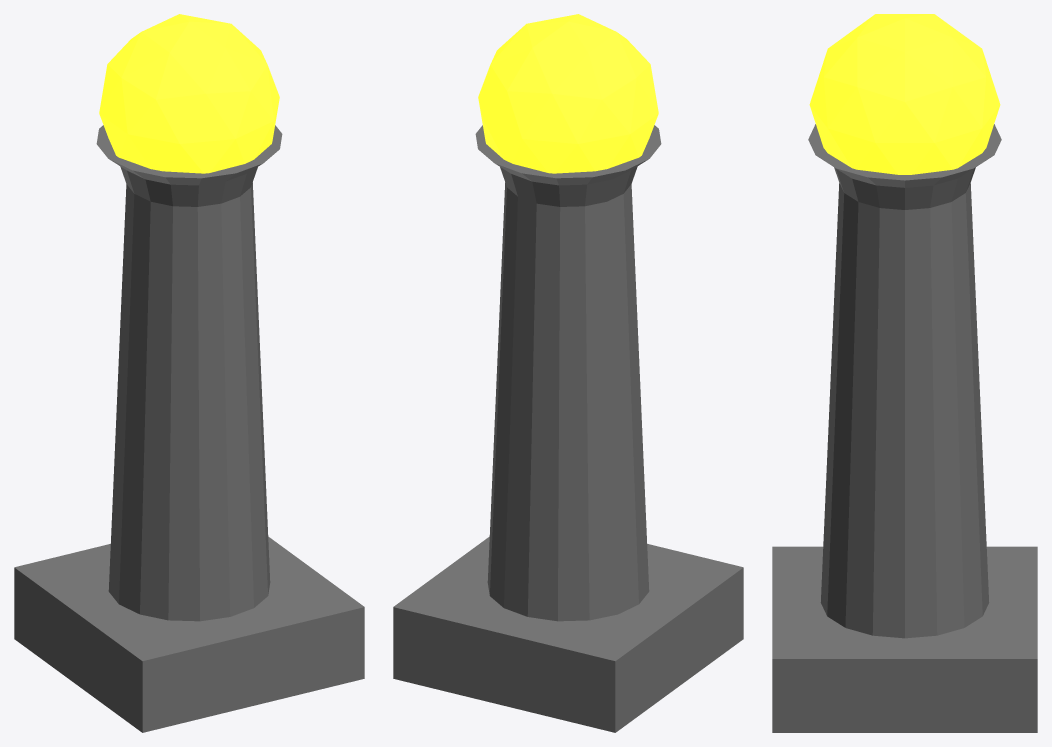
The model's file is Orb.fbx.
3 views of the same model, side by side, from view 1: azimuth 30°, elevation 25°; view 2: azimuth 150°, elevation 25°; view 3: azimuth 270°, elevation 25° (orthographic). The views are drawn at different scales.
Visible parts, largest first — view 1: Orb; view 2: Orb; view 3: Orb.
Boxes of the visible parts, x1=… form: Orb: x1=14, y1=14, x2=364, y2=732; Orb: x1=393, y1=14, x2=743, y2=732; Orb: x1=772, y1=14, x2=1037, y2=732.
Bounding box in the file's own units: 50.52 × 138 × 50.52.
